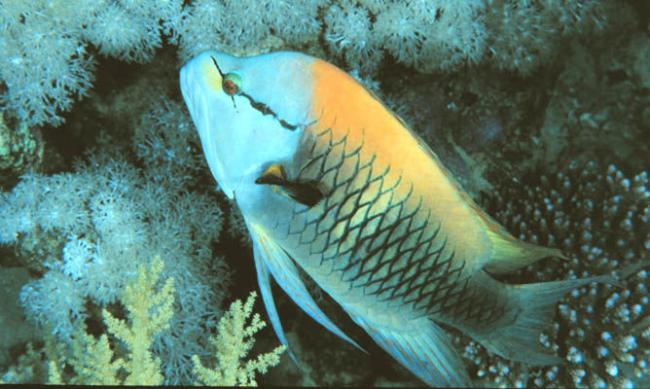fish: (179, 50, 617, 389)
